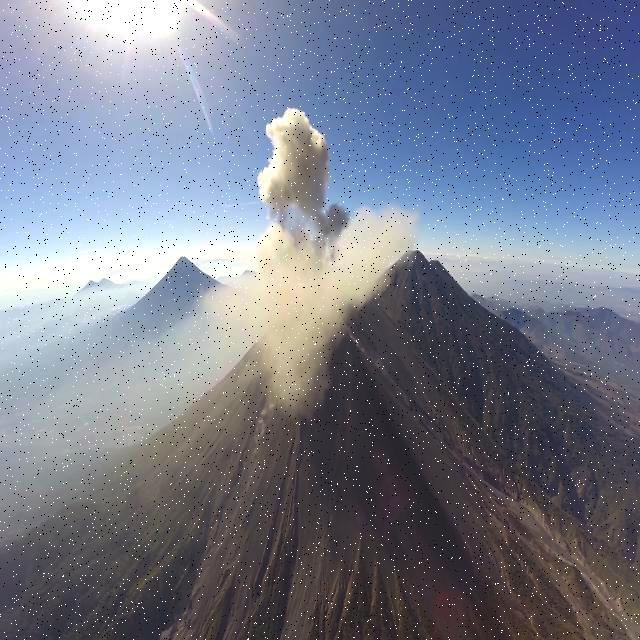Plume: (192, 212, 402, 430), (254, 102, 334, 236)
